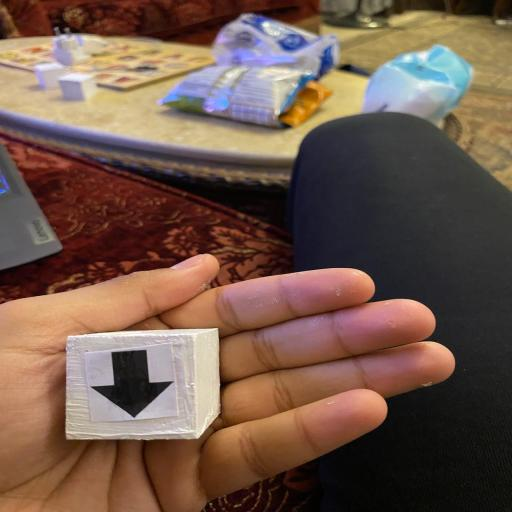Down: (62, 328, 221, 442)
